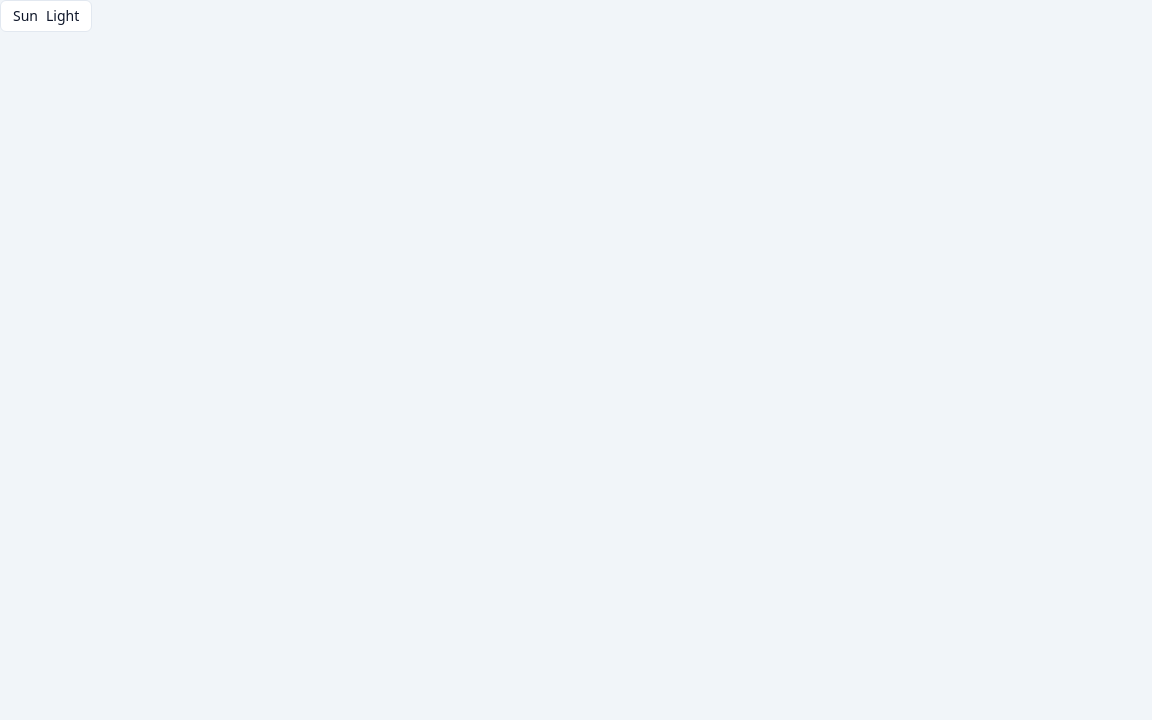
Test: <ThemeToggle> › cycles the theme label on click
Click the button with aria-label "Theme:". click: (46, 16)
box: [0, 0, 92, 32]
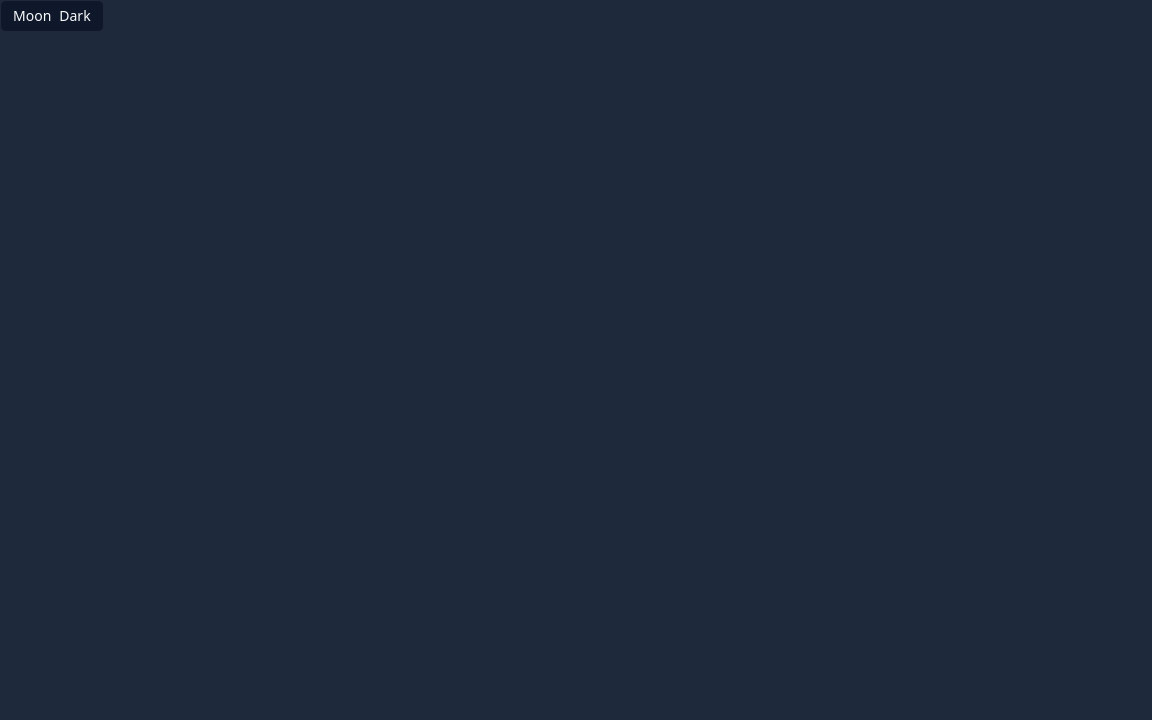
Expected: the text "Dark" is shown, [59, 6, 91, 26]
Click the button with aria-label "Theme:". click: (52, 16)
box: [0, 0, 104, 32]
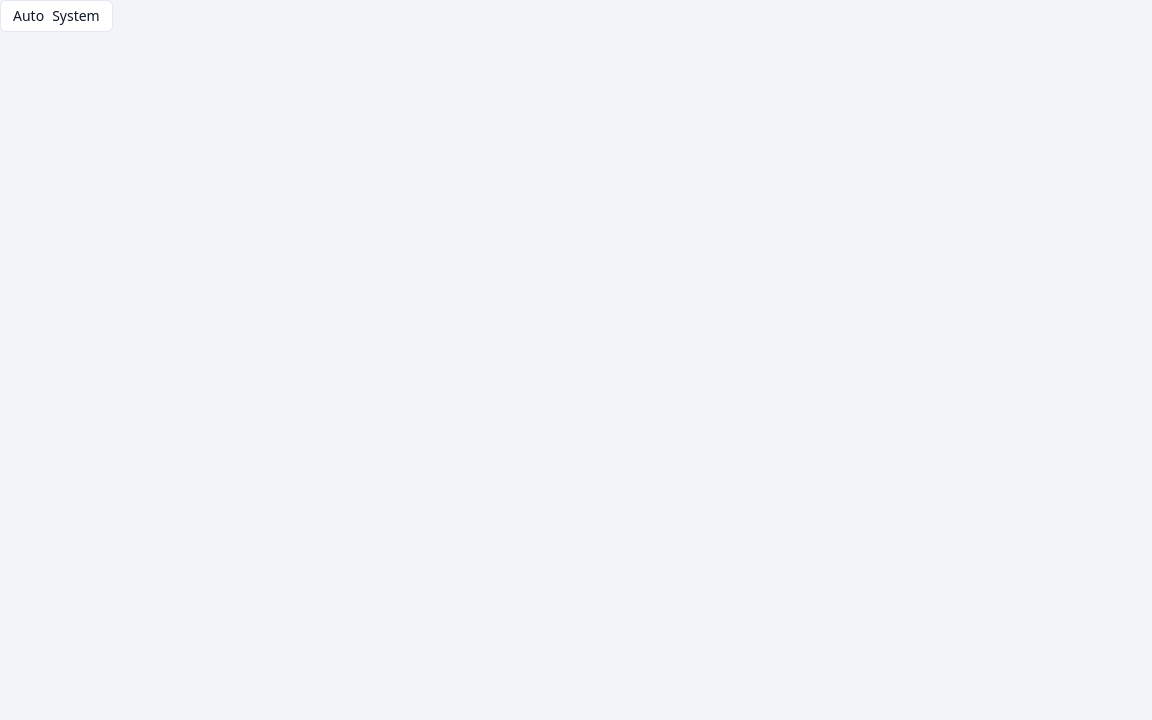
Expected: the text "System" is shown, [52, 6, 100, 26]
